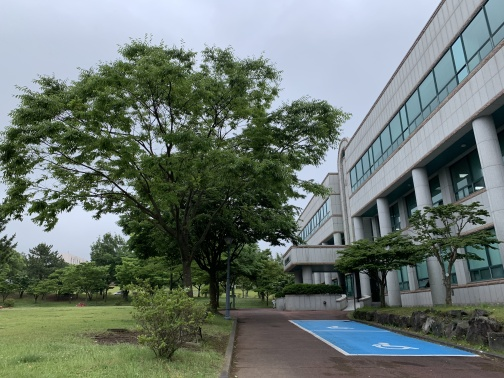Second Library: (270, 15, 504, 312)
